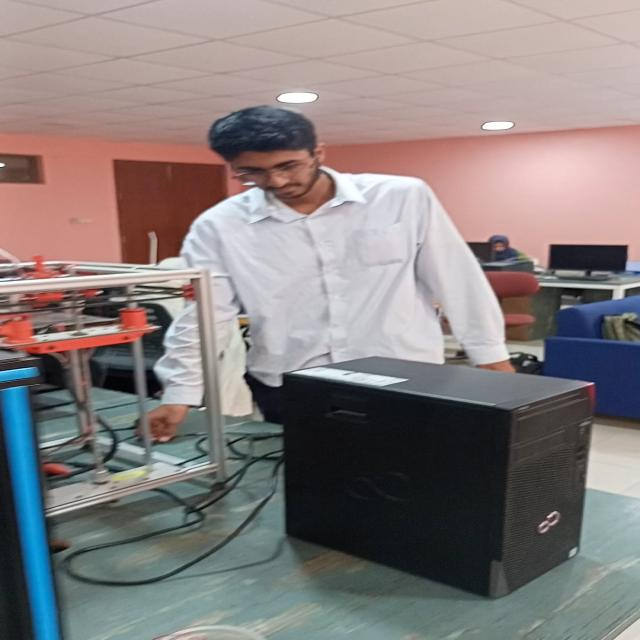dress: (177, 168, 528, 388)
